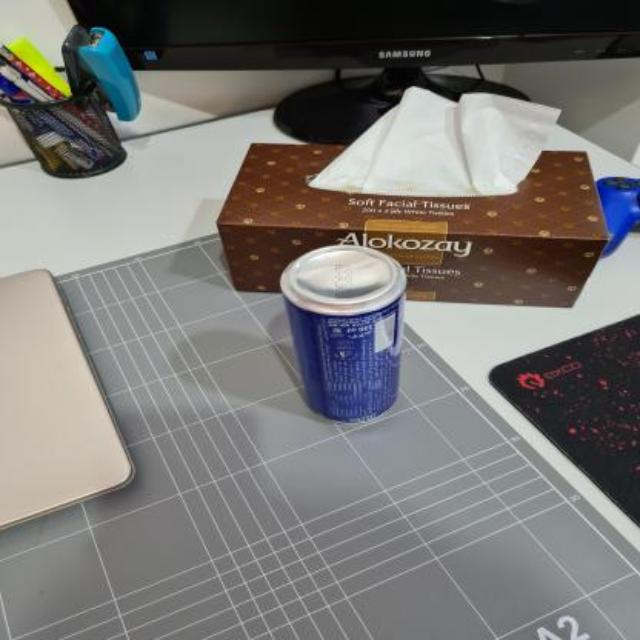cardboard paper: (309, 88, 568, 195)
metal: (280, 246, 405, 422)
